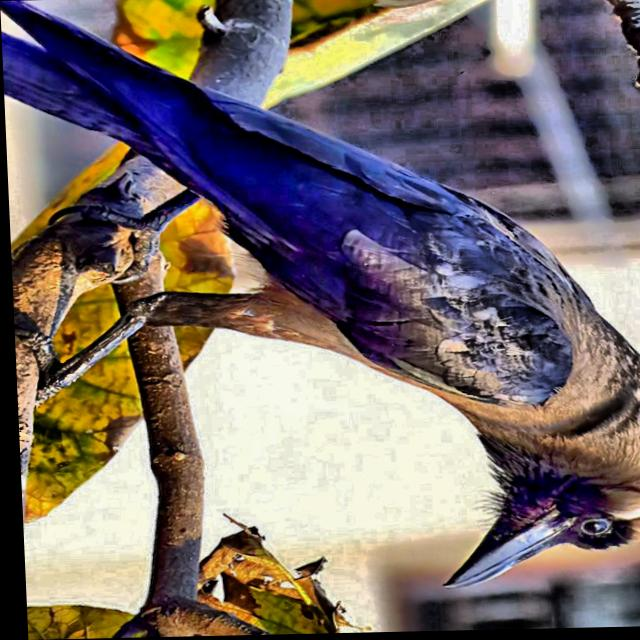crow: (0, 0, 640, 640)
